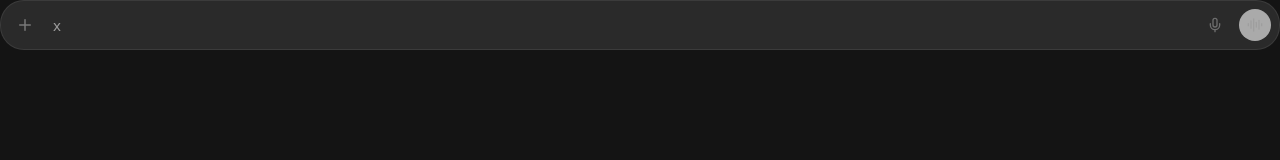
it: Composer › the send button takes the call's place when there is text, and the call comes back when it is cleared
Expected: the element with test id "ornament-call" is shown, [1239,9,1271,41]
Type "oi" into the text box named "Mensagem" at (620, 25), box [49,9,1191,41]
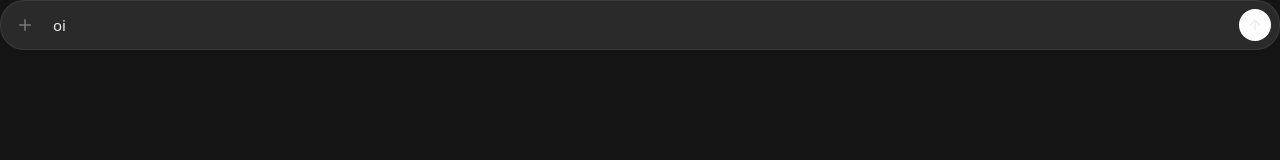
Now the element with test id "ornament-call" is gone
Click the button named "Enviar mensagem" at (1255, 25), box [1239,9,1271,41]
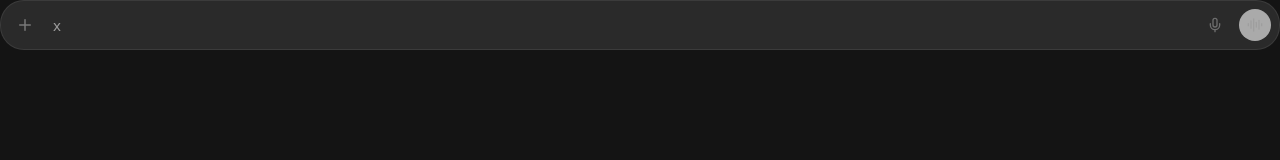
Now the element with test id "ornament-call" is shown, box [1239,9,1271,41]
